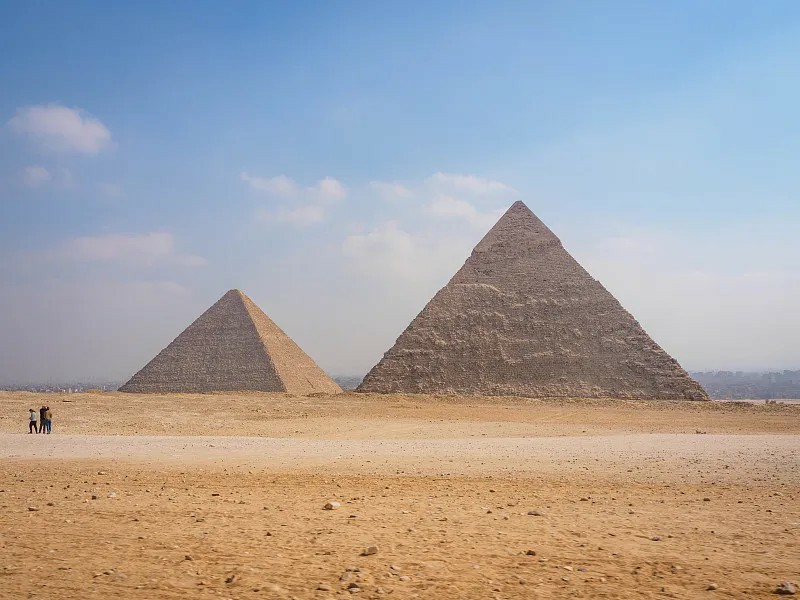Pyramid: (353, 201, 713, 402), (117, 289, 344, 395)
